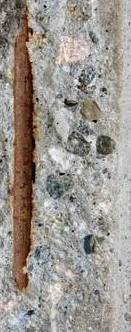Exposed reinforcement: (12, 6, 36, 290)
Spalling: (1, 1, 117, 332)
